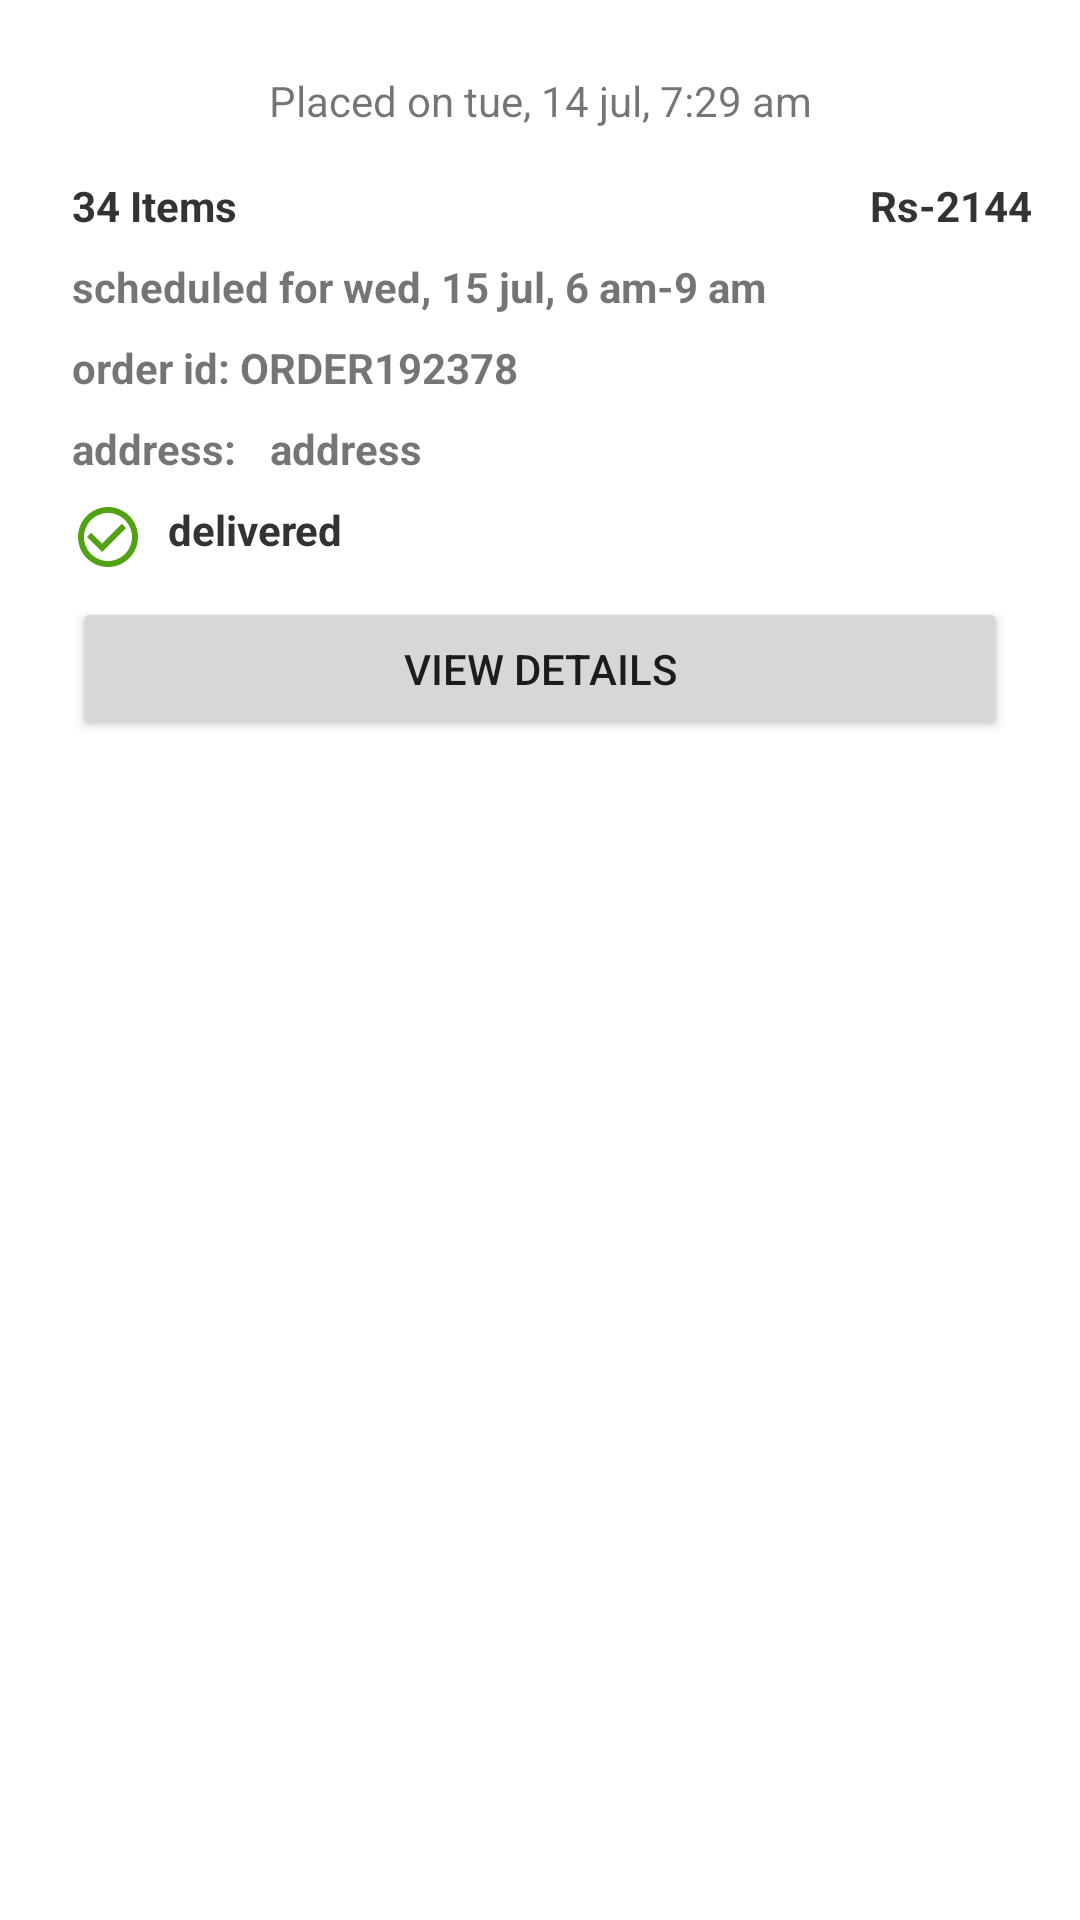

Icons on this 1080px×1920px Android screen, each with its box as {"x1": x1, "y1": y1, "x2": x2, "y2": y2}:
check circle: {"x1": 78, "y1": 507, "x2": 138, "y2": 567}
